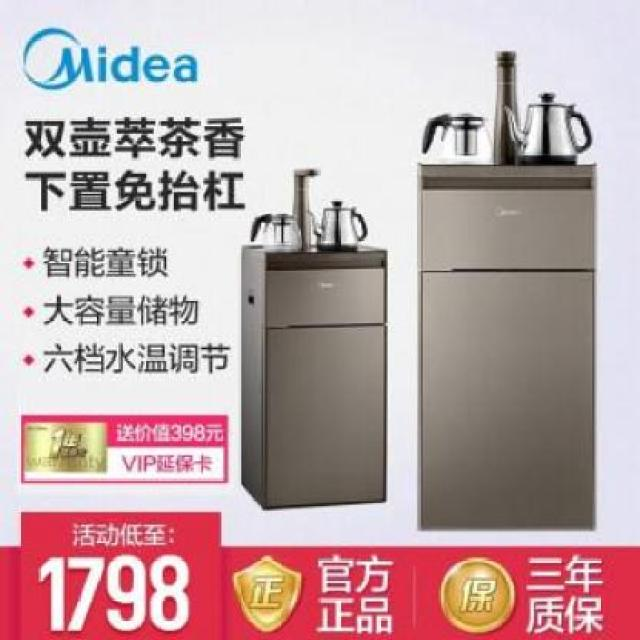cooler: (412, 48, 604, 536), (237, 160, 389, 510)
